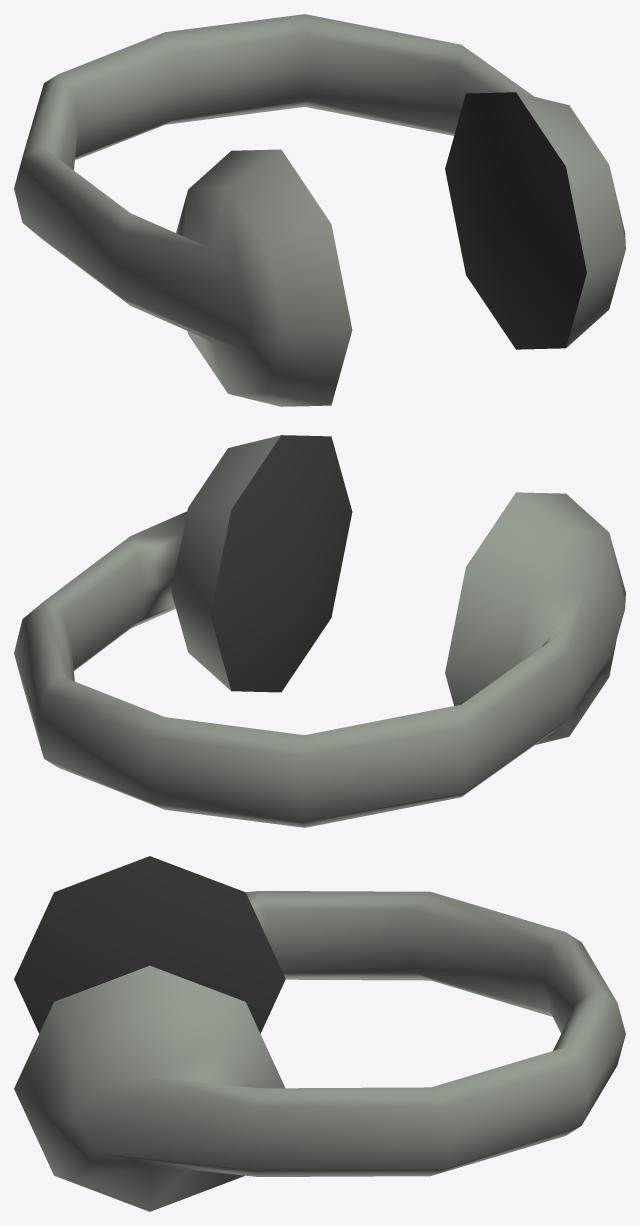
File: soft_headphones.fbx
3 views of the same model, one above another, from view 1: azimuth 30°, elevation 25°; view 2: azimuth 150°, elevation 25°; view 3: azimuth 270°, elevation 25° (orthographic). The views are drawn at different scales.
Parts seen in each view (by area): view 1: soft_headphones; view 2: soft_headphones; view 3: soft_headphones.
Part boxes in pixels (x1,y1,x2,y2): soft_headphones: (14, 14, 625, 406); soft_headphones: (14, 435, 625, 827); soft_headphones: (14, 856, 625, 1211).
Bounding box in the file's own units: 0.8603 × 0.4637 × 1.04.
